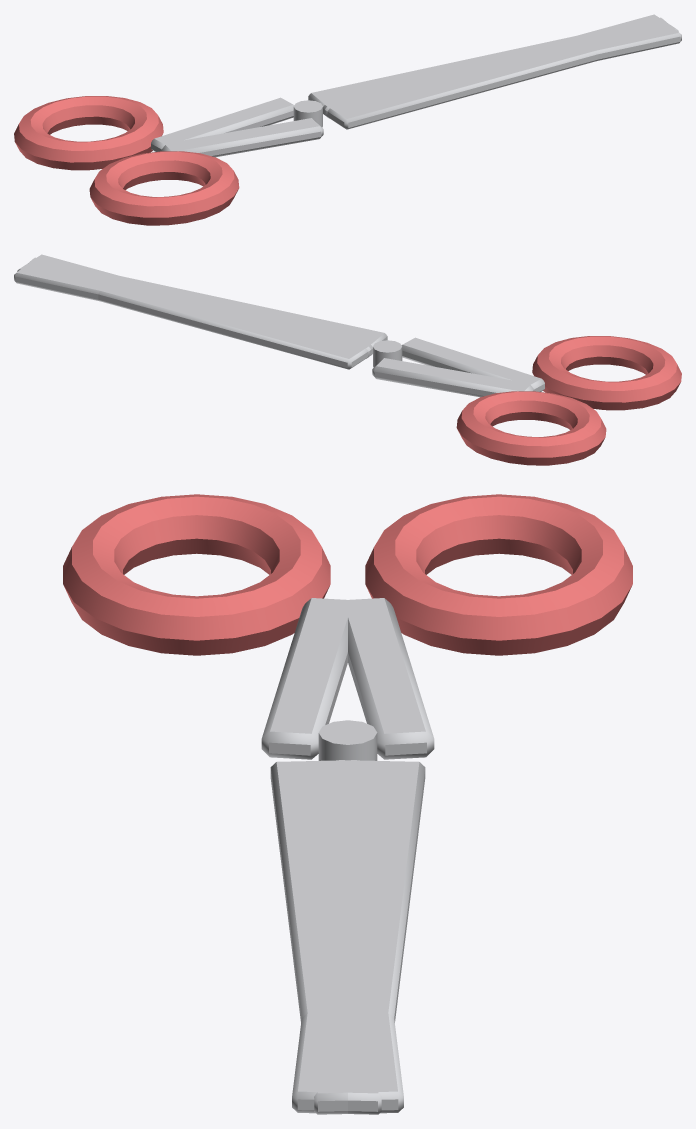
Rendered from scissors.glb.
The picture shows the model from 3 angles, top to bottom: view 1: azimuth 30°, elevation 25°; view 2: azimuth 150°, elevation 25°; view 3: azimuth 270°, elevation 25°; orthographic projection. The views are drawn at different scales.
Visible parts, largest first — view 1: scissors; view 2: scissors; view 3: scissors.
Part boxes in pixels (x1,y1,x2,y2): scissors: (14,14,681,225); scissors: (14,254,681,465); scissors: (63,494,632,1114).
Size of the model in its own units: 0.1683 by 0.0072 by 0.0679.
